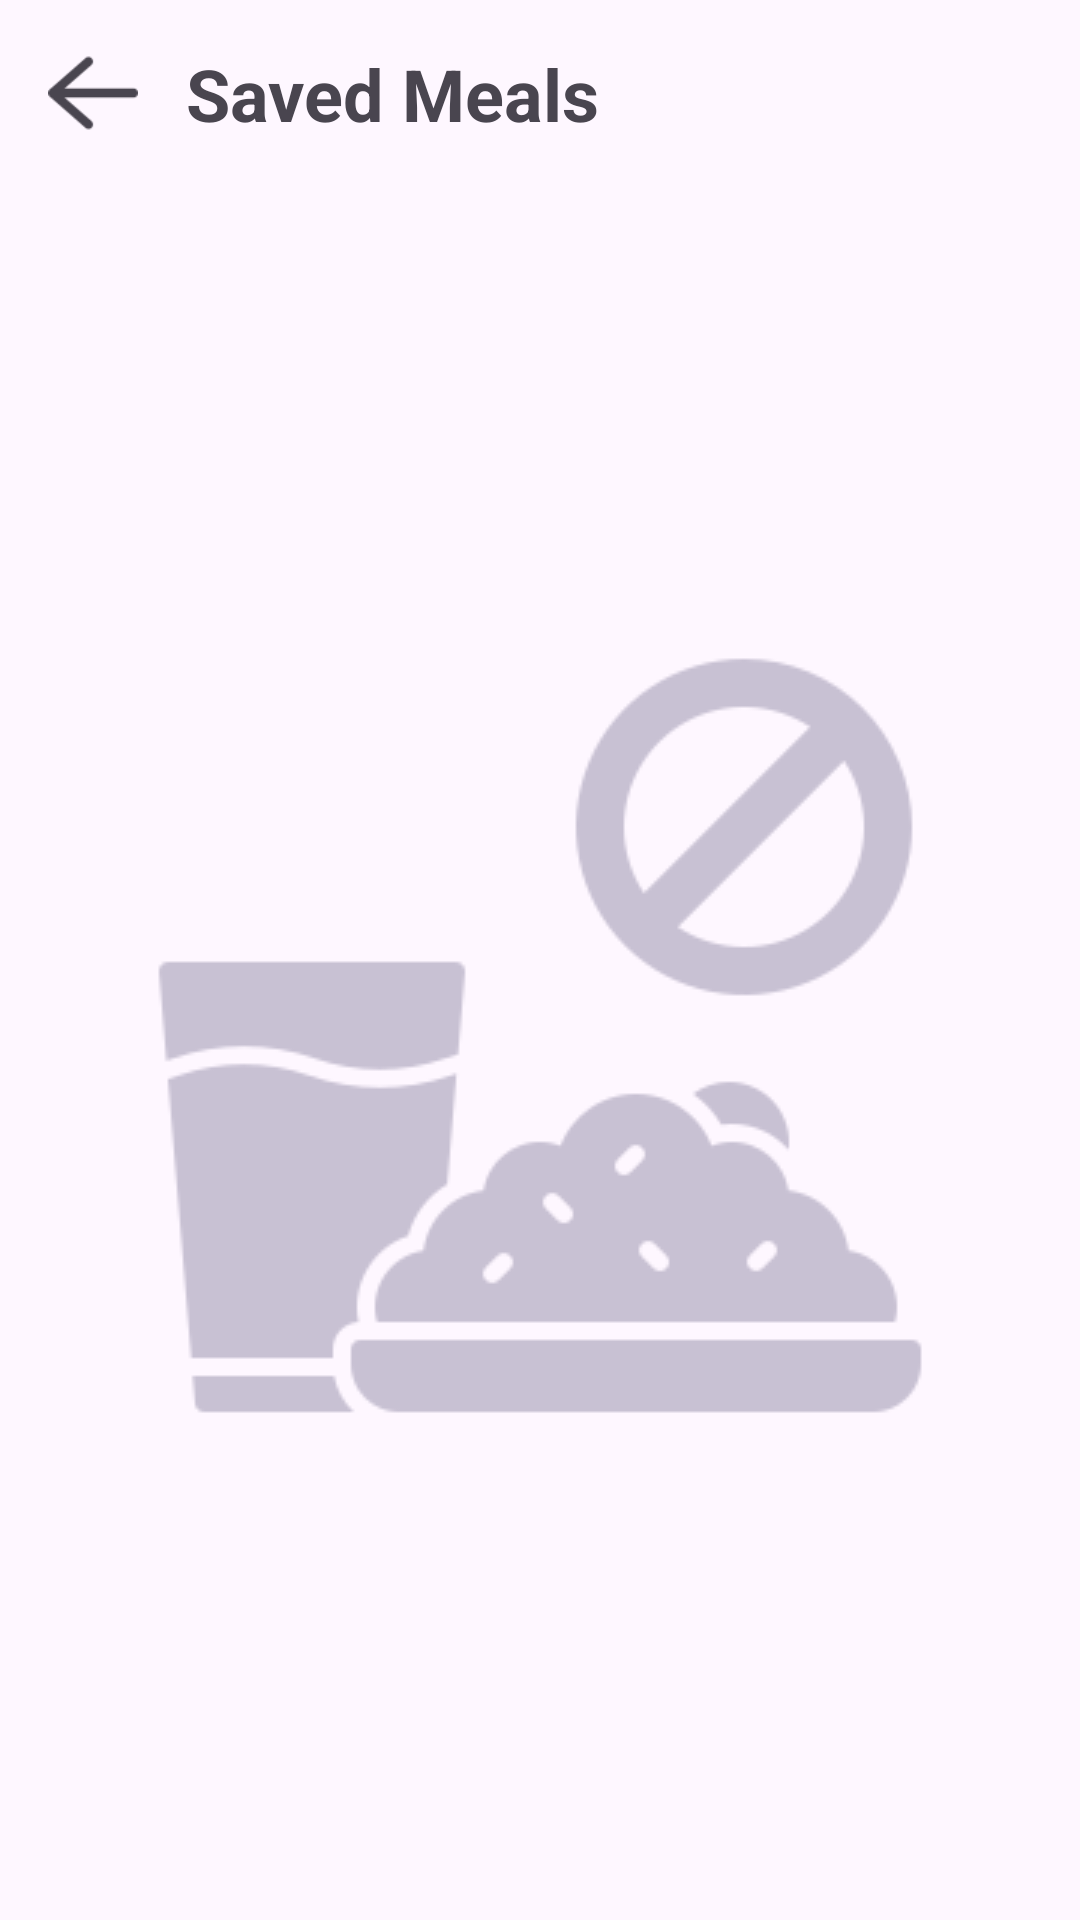

Named icons in this screenshot (1080 x 1920) and their bounding boxes, (x1, y1, x2, y2):
left arrow: (48, 56, 138, 130)
